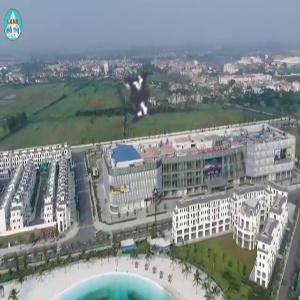drone: (70, 33, 203, 166)
